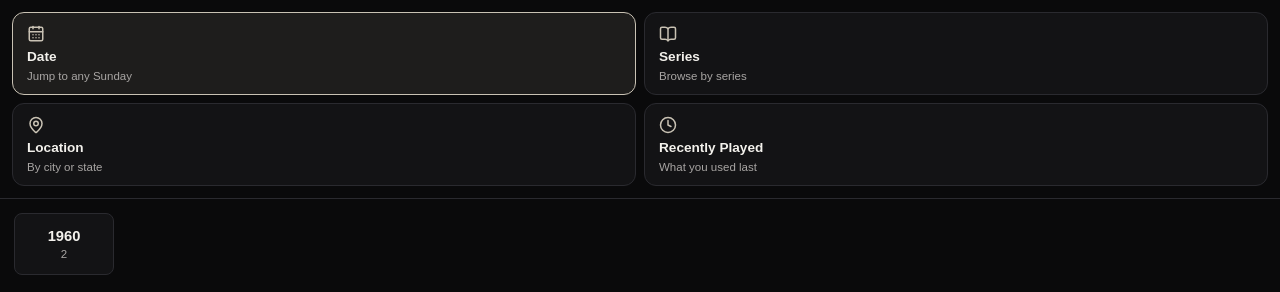
BrowsePanel › switches to Series tab and loads the series list
The width and height of the screenshot is (1280, 292).
Click the button "Series Browse by series".
click(679, 56)  # box [644,12,1268,95]
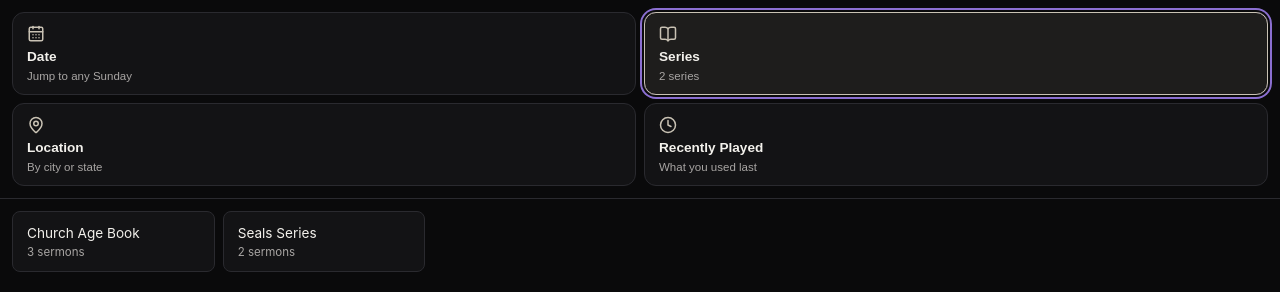
Expected: the text "Church Age Book" is shown, [27,225,140,241]
Expected: the text "Seals Series" is shown, [238,225,317,241]
